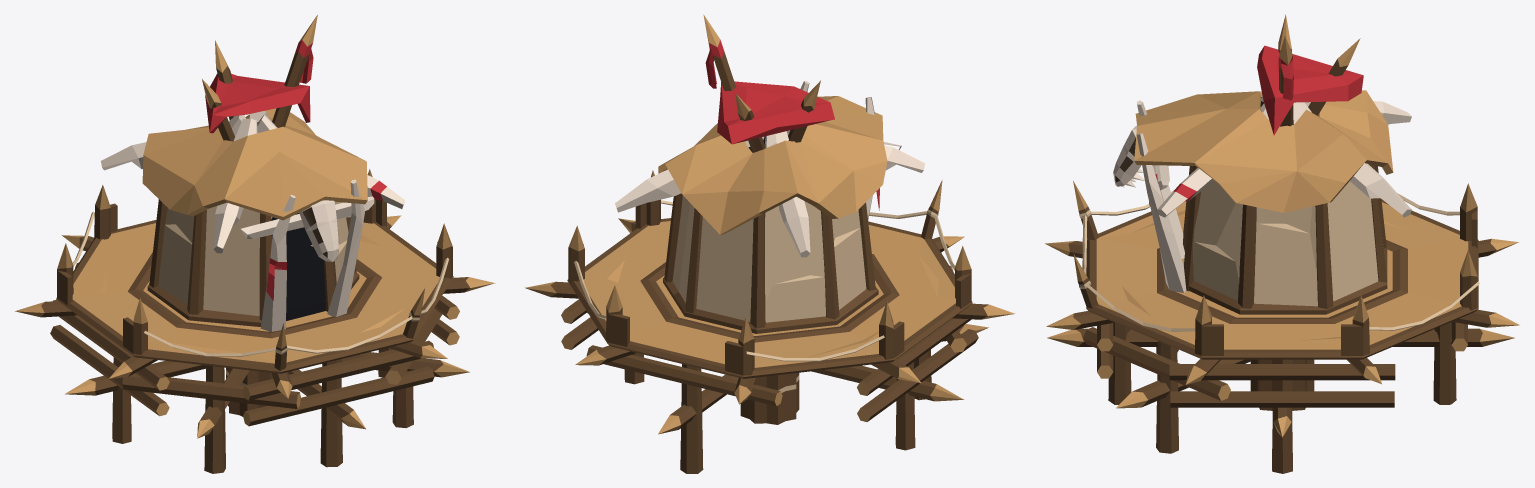
The model's file is tribal-tower-tribal-tier2.glb.
3 views of the same model, side by side, from view 1: azimuth 30°, elevation 25°; view 2: azimuth 150°, elevation 25°; view 3: azimuth 270°, elevation 25° (orthographic). The views are drawn at different scales.
Visible parts, largest first — view 1: SM_Tower_Tribal_Tier2; view 2: SM_Tower_Tribal_Tier2; view 3: SM_Tower_Tribal_Tier2.
Part boxes in pixels (x1=…): SM_Tower_Tribal_Tier2: x1=15, y1=14, x2=495, y2=473; SM_Tower_Tribal_Tier2: x1=525, y1=14, x2=1015, y2=473; SM_Tower_Tribal_Tier2: x1=1045, y1=14, x2=1519, y2=473.
Size of the model in its own units: 12.13 by 11.2 by 12.13.
